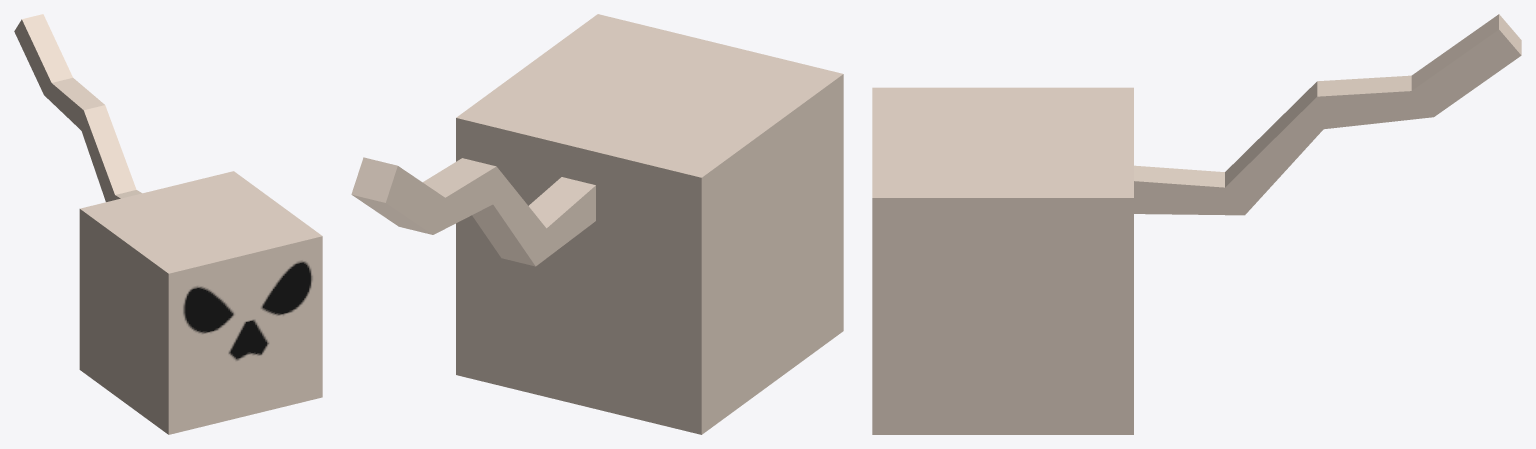
Rendered from catSkeleton.fbx.
The picture shows the model from 3 angles, left to right: view 1: azimuth 30°, elevation 25°; view 2: azimuth 150°, elevation 25°; view 3: azimuth 270°, elevation 25°; orthographic projection. The views are drawn at different scales.
Visible parts, largest first — view 1: CatSkeleton; view 2: CatSkeleton; view 3: CatSkeleton.
Boxes of the visible parts, box(x1,y1,x2,y2) form: CatSkeleton: box(14, 14, 322, 434); CatSkeleton: box(351, 14, 843, 434); CatSkeleton: box(872, 14, 1521, 434).
Size of the model in its own units: 100 by 151 by 248.
